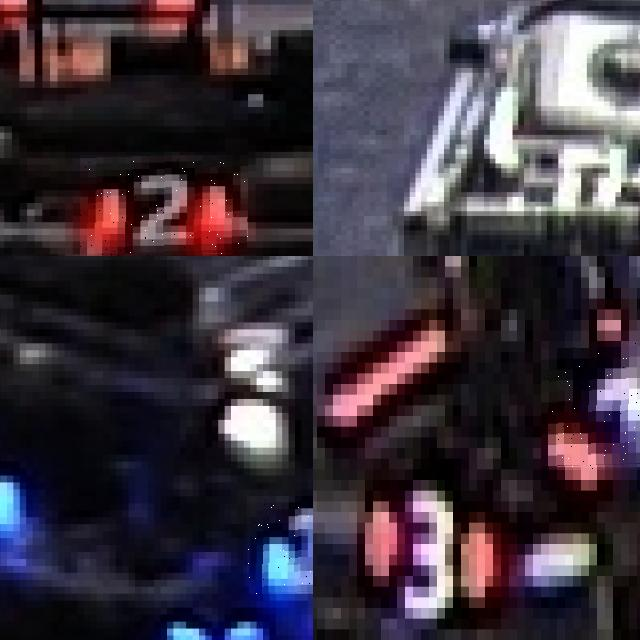B2: (247, 496, 313, 593), (0, 433, 45, 531)
R2: (80, 154, 247, 256)
R3: (357, 470, 509, 630), (541, 341, 640, 469)
